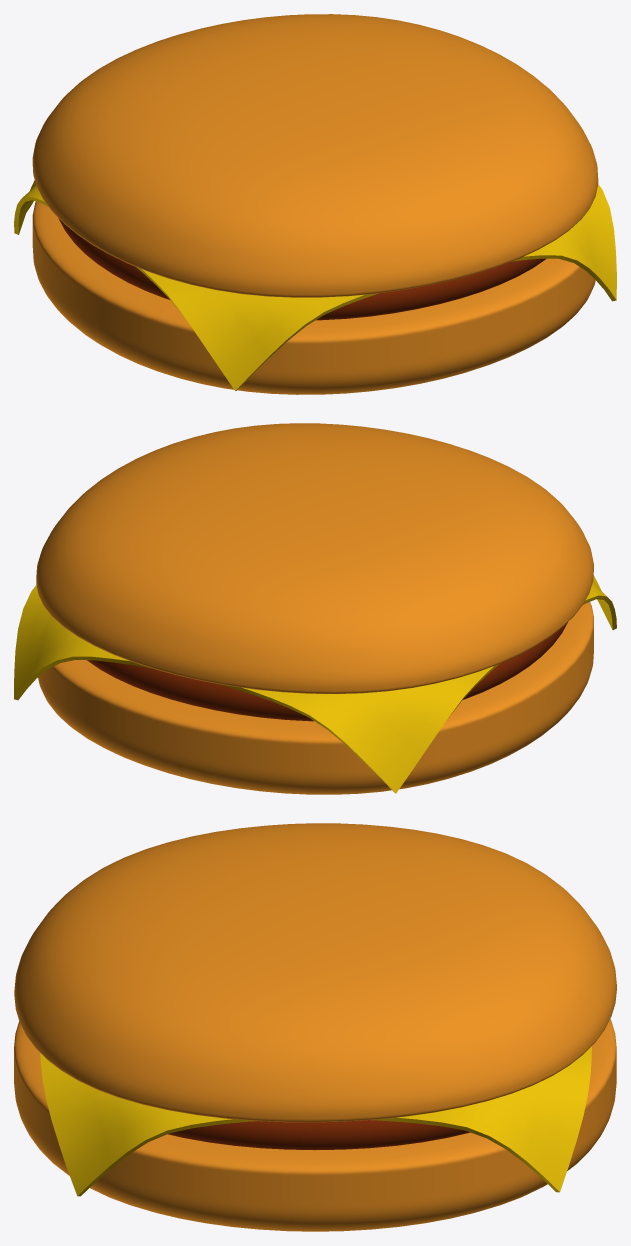
Rendered from hamburger.glb.
3 views of the same model, one above another, from view 1: azimuth 30°, elevation 25°; view 2: azimuth 150°, elevation 25°; view 3: azimuth 270°, elevation 25° (orthographic). The views are drawn at different scales.
Visible parts, largest first — view 1: UpperBun, BottomBun, Plane, Meat; view 2: UpperBun, BottomBun, Plane, Meat; view 3: UpperBun, BottomBun, Plane, Meat.
Part boxes in pixels (x1,y1,x2,y2): UpperBun: (32,14,598,297); BottomBun: (32,201,595,394); Plane: (14,180,616,390); Meat: (58,218,546,320); UpperBun: (36,423,593,693); BottomBun: (38,602,593,794); Plane: (14,575,616,793); Meat: (87,622,567,721); UpperBun: (14,823,616,1122); BottomBun: (14,1019,616,1231); Plane: (40,1046,591,1196); Meat: (168,1120,470,1150).
Size of the model in its own units: 9.09 by 4.08 by 9.1.
